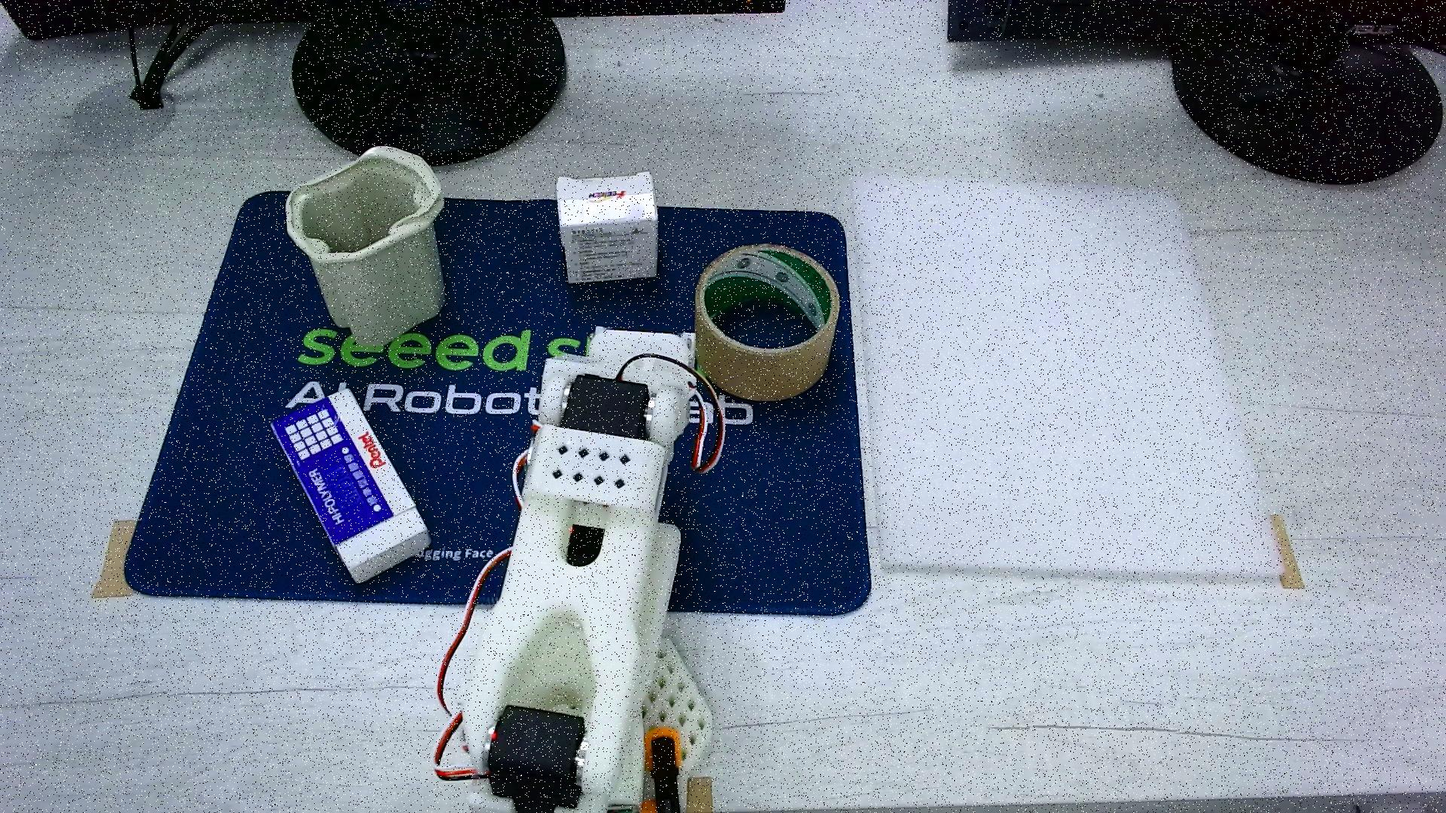eraser: (557, 172, 657, 283)
